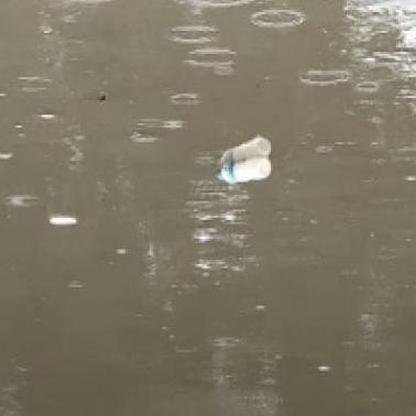plastic bottle: (214, 157, 271, 182)
